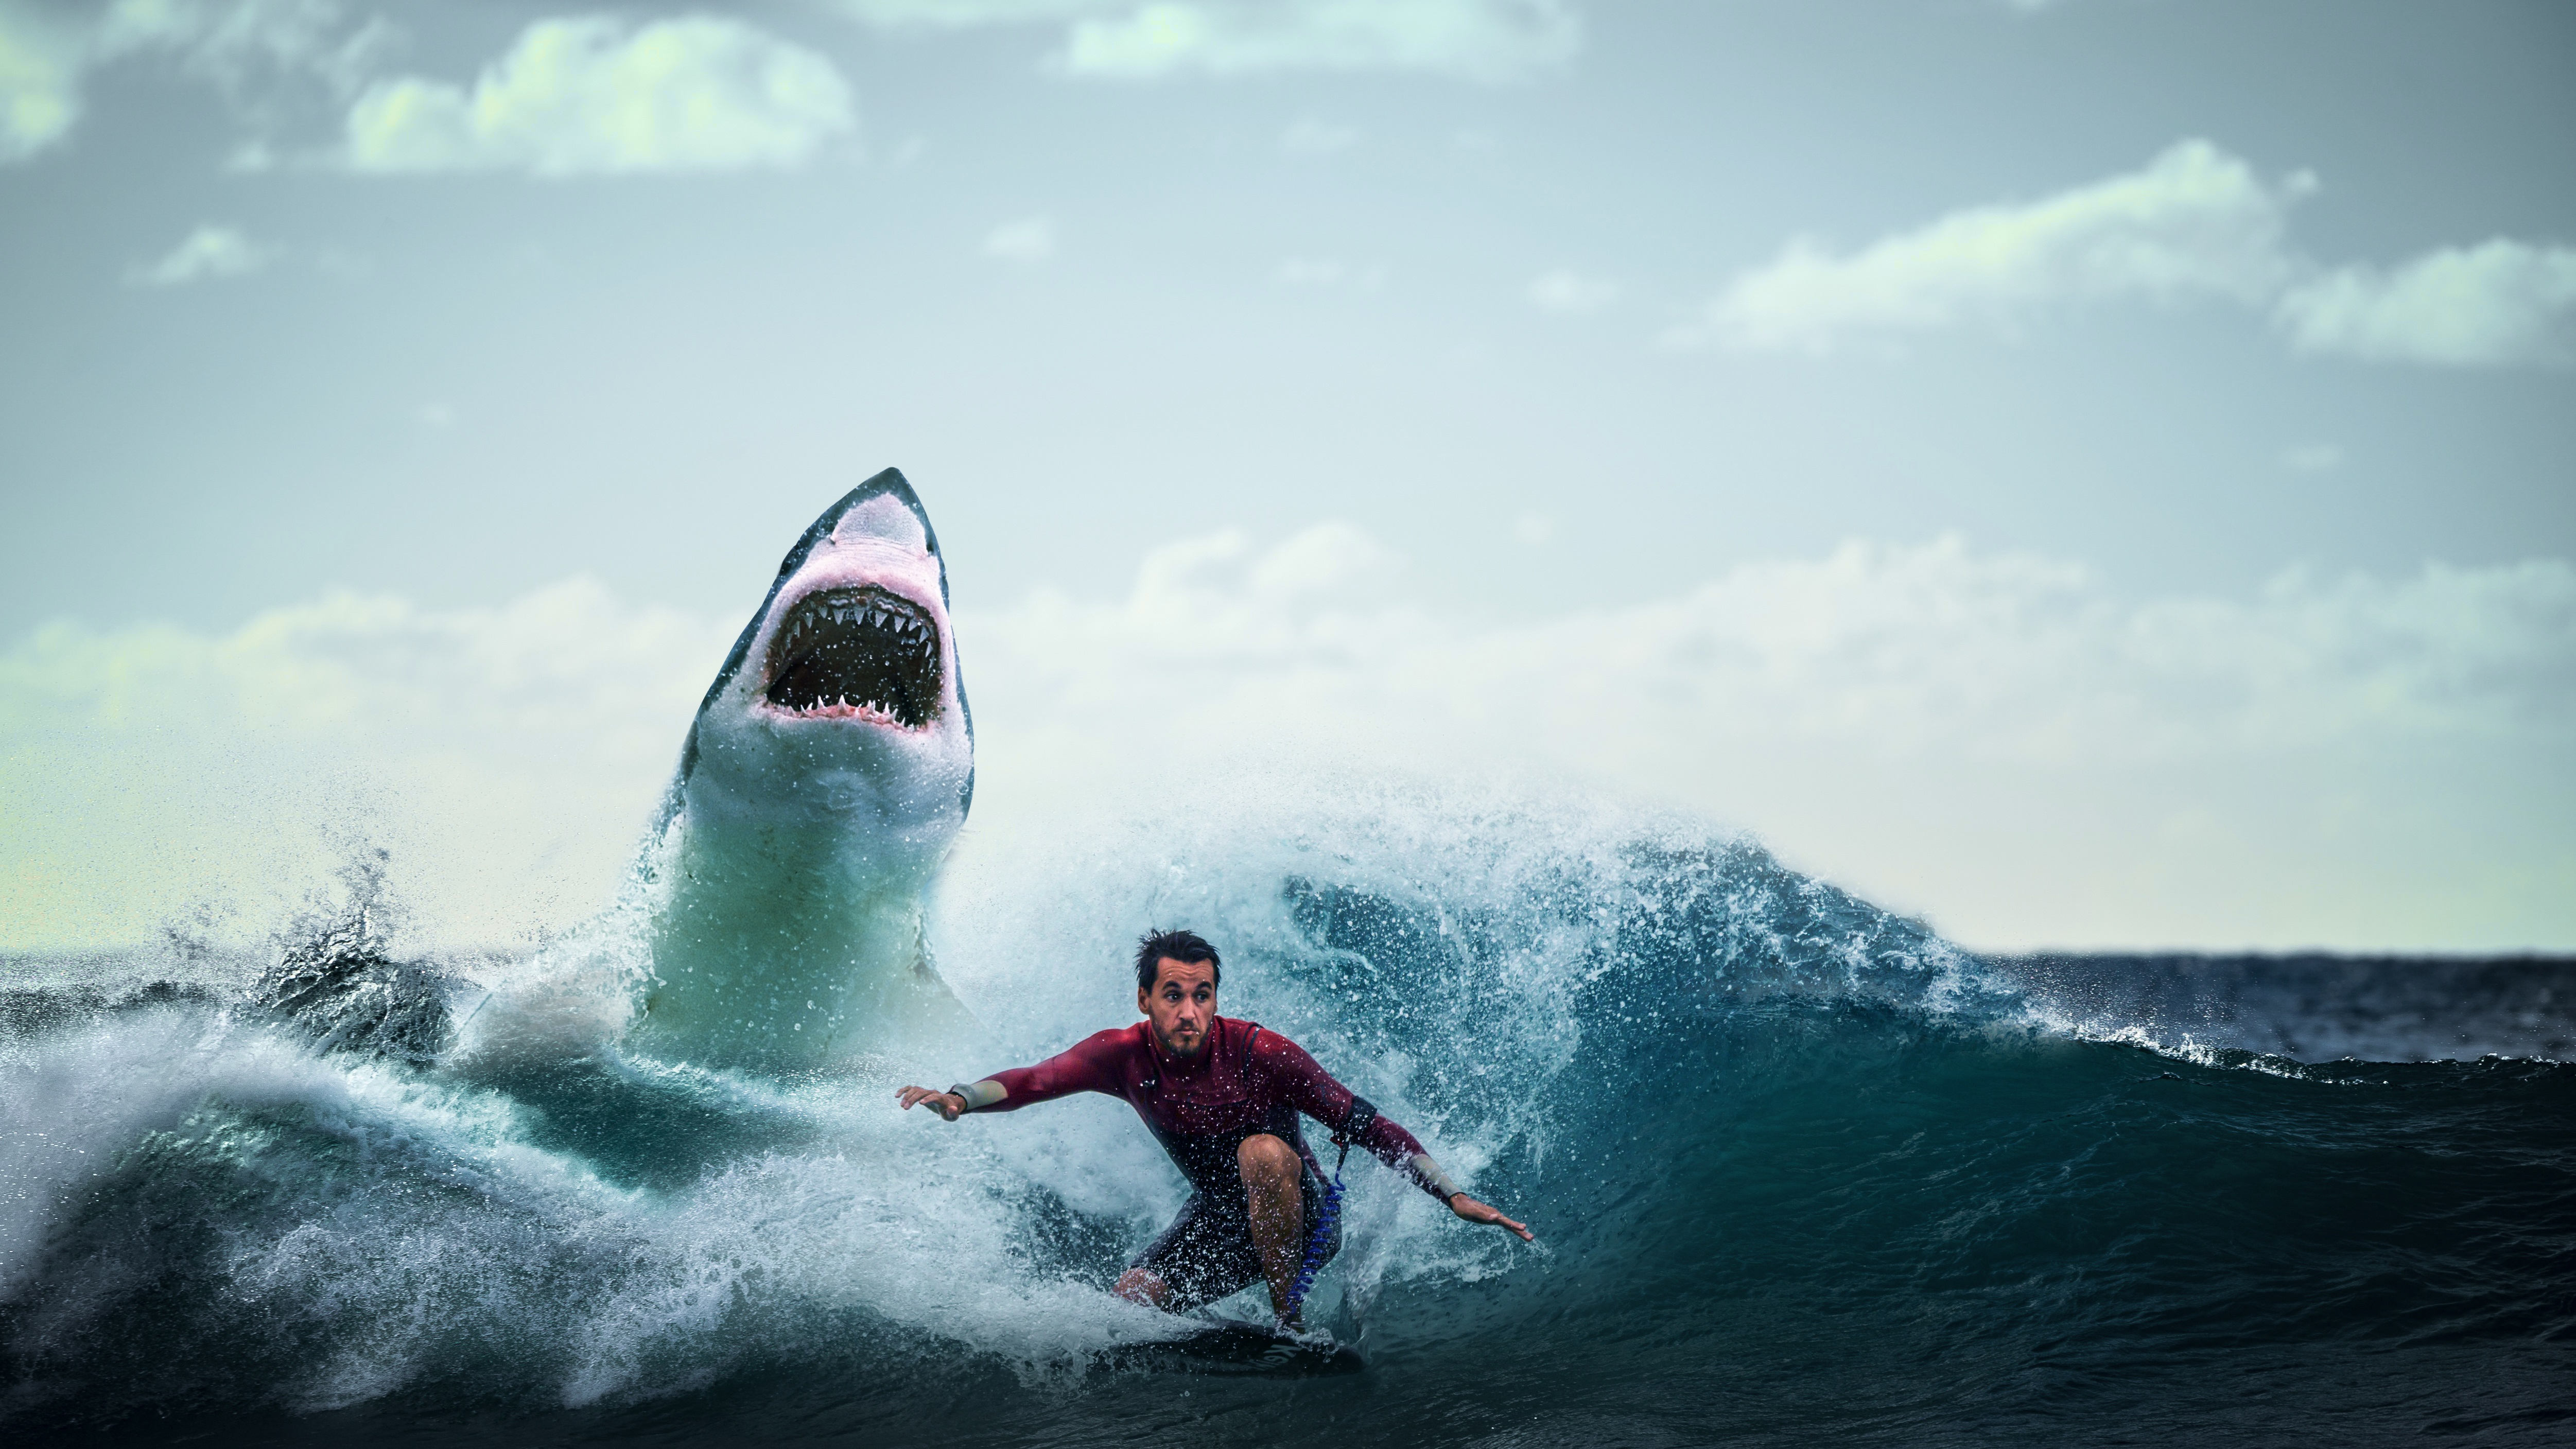shark: (591, 455, 1093, 1077)
